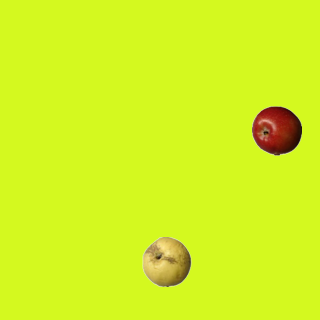Apple Braeburn: (251, 105, 301, 155)
Apple Golden 1: (141, 236, 191, 286)
